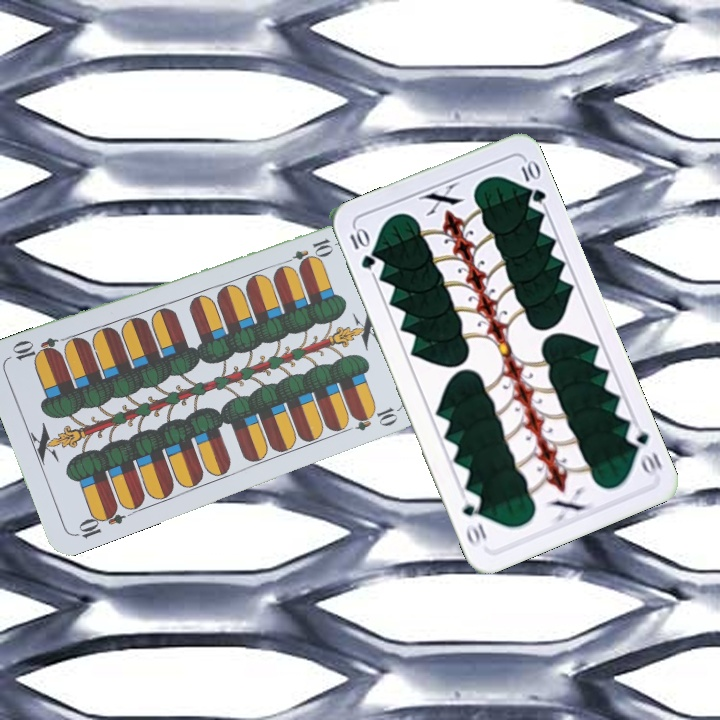E10: (70, 502, 127, 541), (278, 234, 336, 269)
G10: (622, 420, 665, 479), (345, 224, 378, 272)
